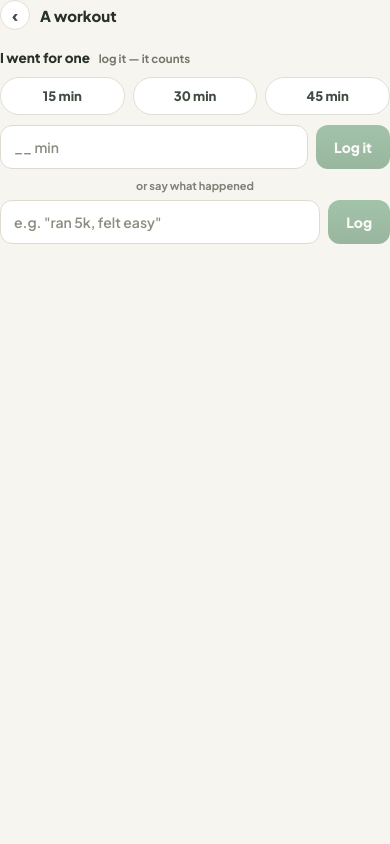
Test: QuickAddTense — honest failure keeps the step and shows a note › a failed free-typed log never tells the host it logged, and the typed text survives to retry
The width and height of the screenshot is (390, 844).
Type "hotel gym, 30 min" into the field with placeholder "e.g. \"ran 5k, felt easy\"".
click(160, 222); type("hotel gym, 30 min")  # box [0, 200, 320, 244]
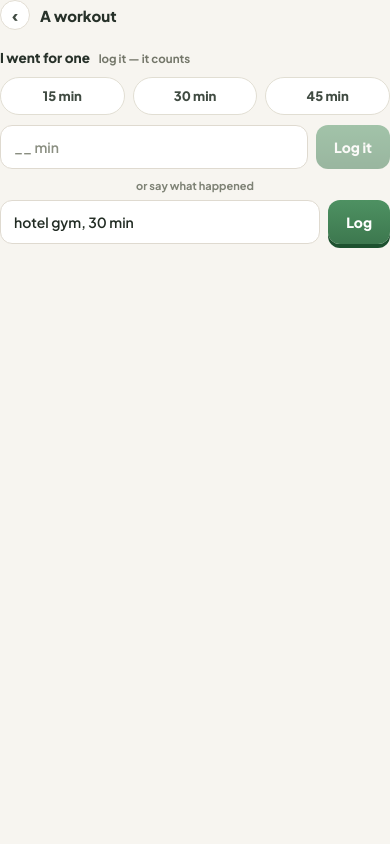
Click the button "Log".
click(359, 222)  # box [328, 200, 389, 244]
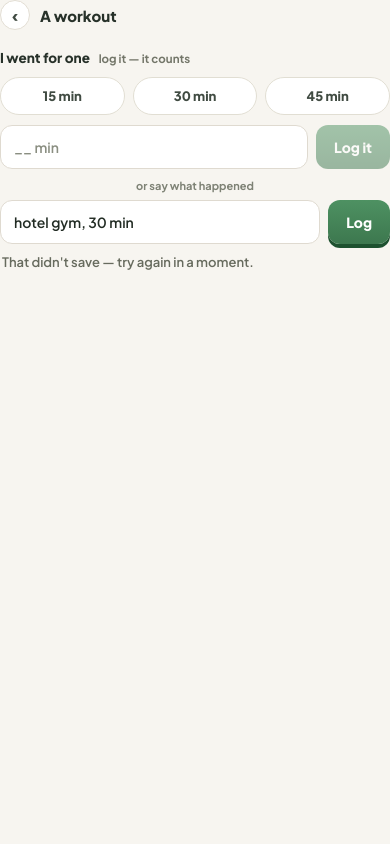
Now the text "That didn't save — try again in a moment." is shown, box [2, 254, 254, 270]
